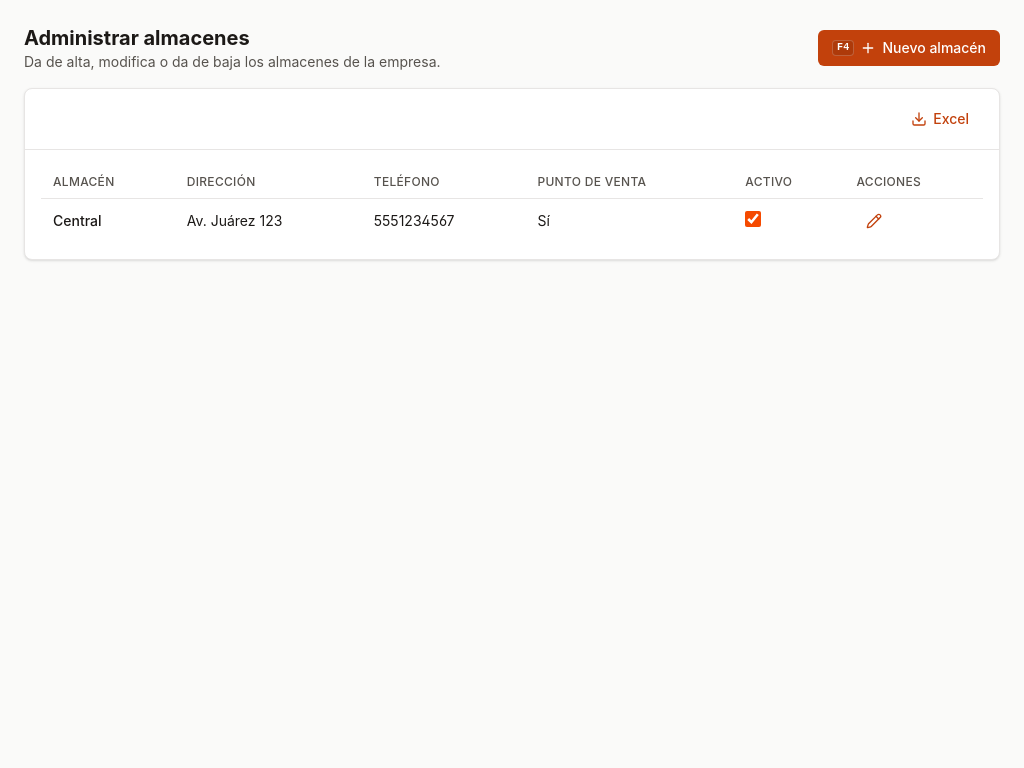
Test: AlmacenesAdminPage (smoke) › 'Editar' abre el diálogo precargado con el nombre
The image size is (1024, 768).
Check: the text "Central" is shown, box [53,212,102,229]
Click the button named "Editar": [874, 221] box [856,207,892,235]
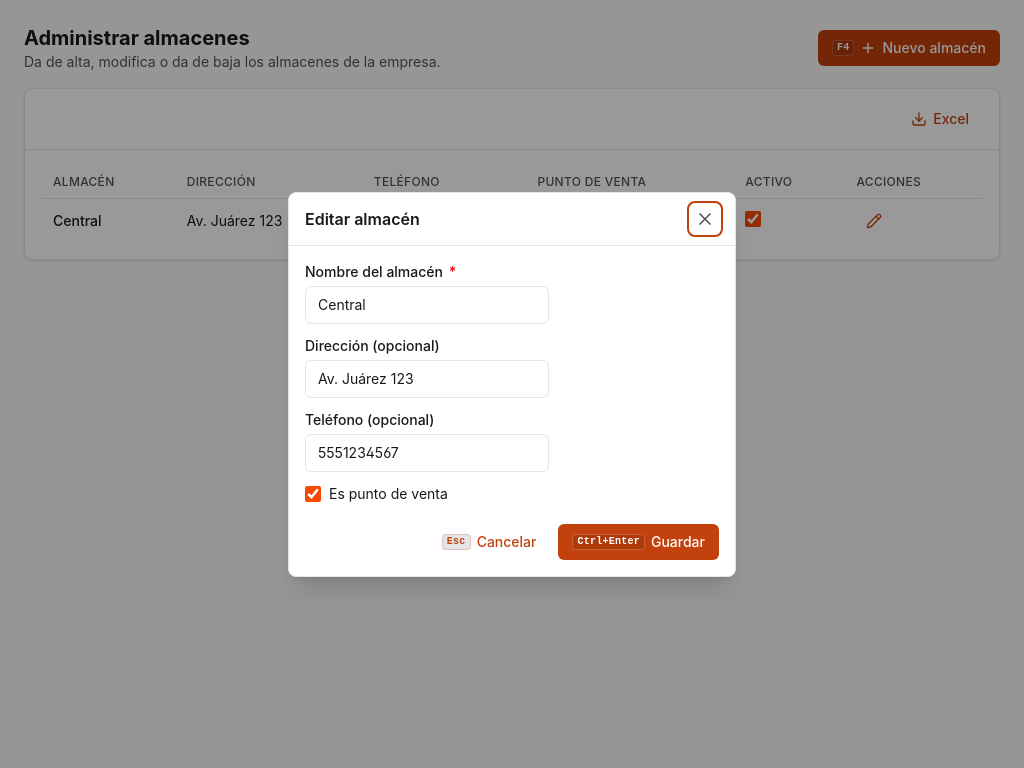
Check: the heading "Editar almacén" is shown, box [305,206,420,230]
Check: the field labelled "Nombre del almacén *" holds "Central", box [305,286,549,324]
